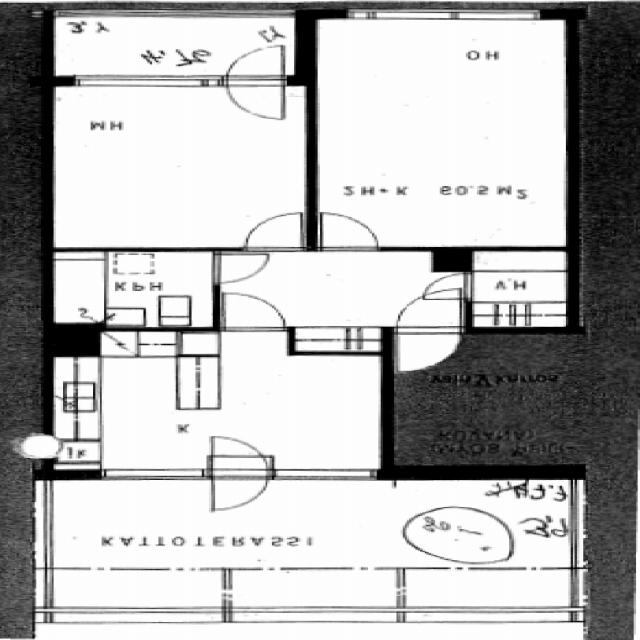door: (398, 327, 461, 371), (398, 290, 461, 333), (228, 43, 284, 86), (213, 438, 268, 481), (228, 77, 284, 119), (224, 291, 284, 330), (213, 471, 268, 513), (322, 215, 378, 251), (247, 215, 302, 251), (214, 254, 268, 284), (422, 274, 472, 300)
